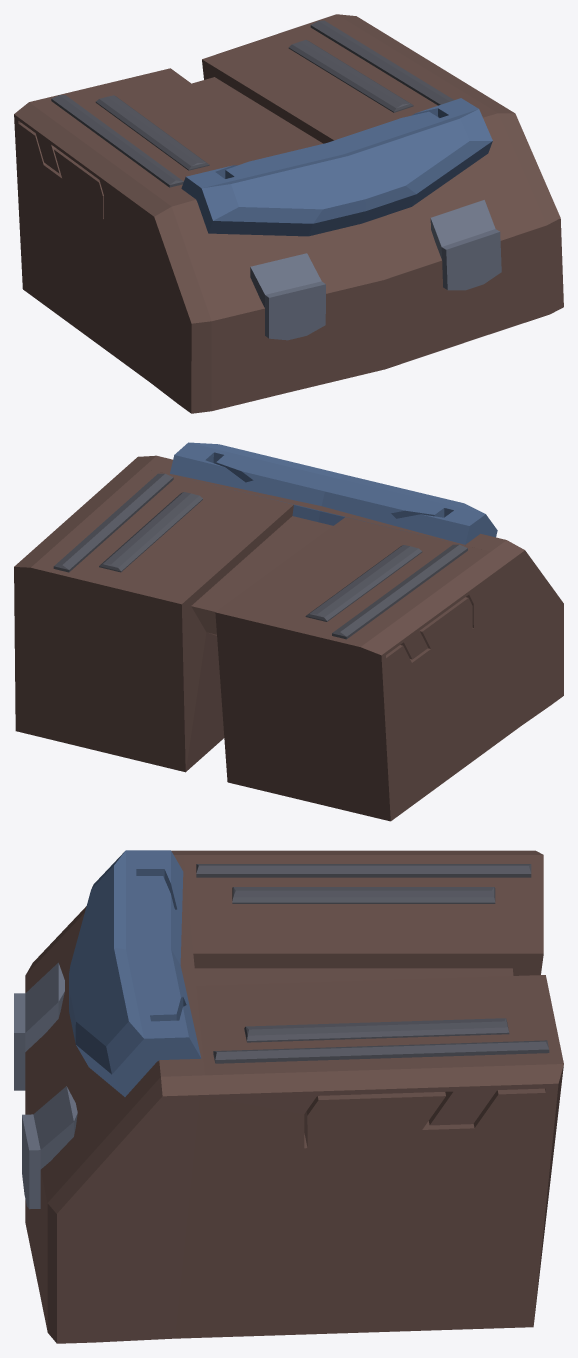
File: 大门主体层_001.fbx
3 views of the same model, one above another, from view 1: azimuth 30°, elevation 25°; view 2: azimuth 150°, elevation 25°; view 3: azimuth 270°, elevation 25° (orthographic). The views are drawn at different scales.
Visible parts, largest first — view 1: 大门主体层.001; view 2: 大门主体层.001; view 3: 大门主体层.001.
Boxes of the visible parts, x1,y1,x2,y2 form: 大门主体层.001: (14,14,563,413); 大门主体层.001: (14,442,563,821); 大门主体层.001: (14,850,563,1343).
Bounding box in the file's own units: 2.76 × 1.36 × 2.43.
